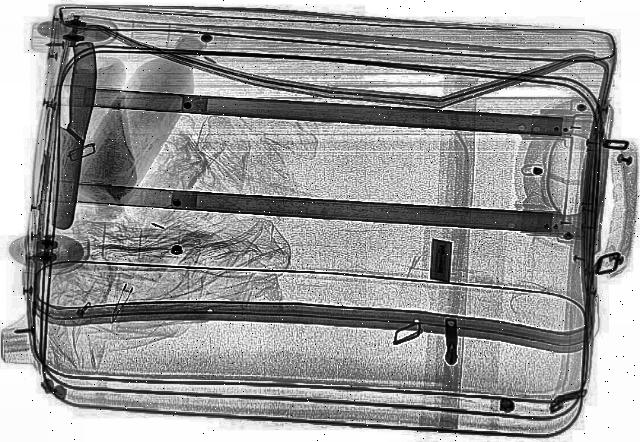Knife: (26, 37, 104, 233)
